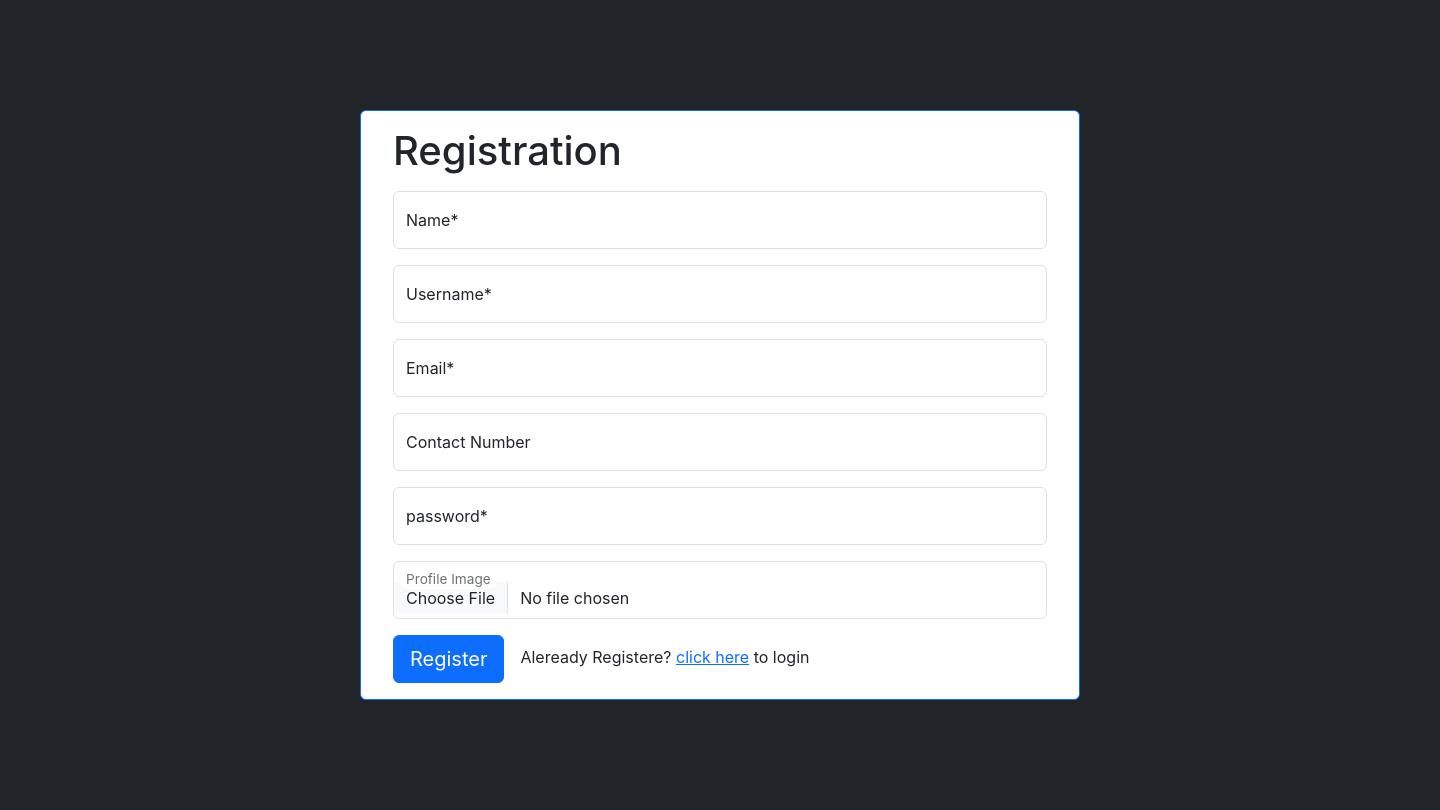
Scenario: signup component is rendered correctly › username input field throwing error after focussing and not entered any value and focus out
The width and height of the screenshot is (1440, 810).
Step 1. Click the field with placeholder "Enter username" → x=720, y=294, box [393,265,1047,323]
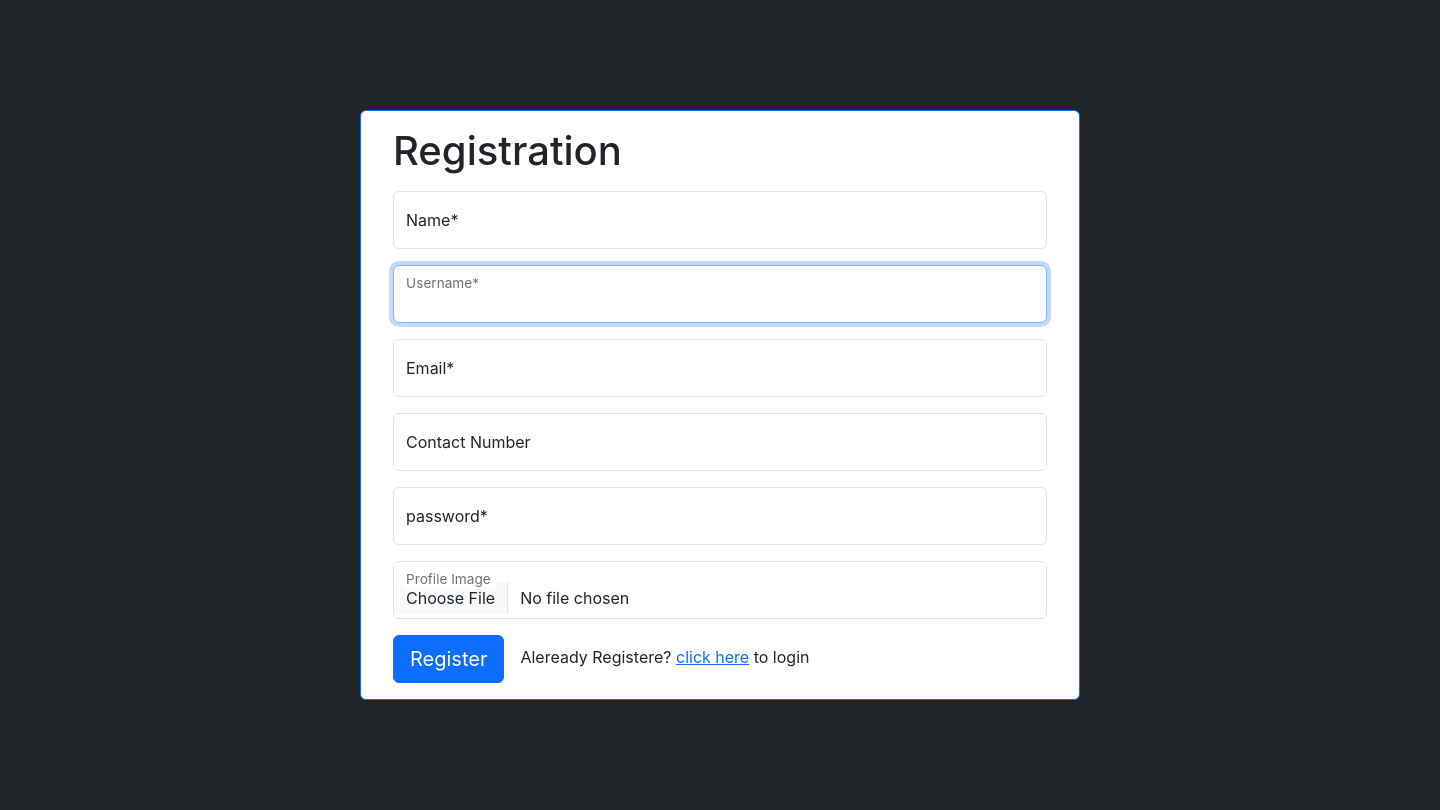
Step 2. Click the element that starts with "Registration" → x=720, y=405, box [0,0,1439,809]
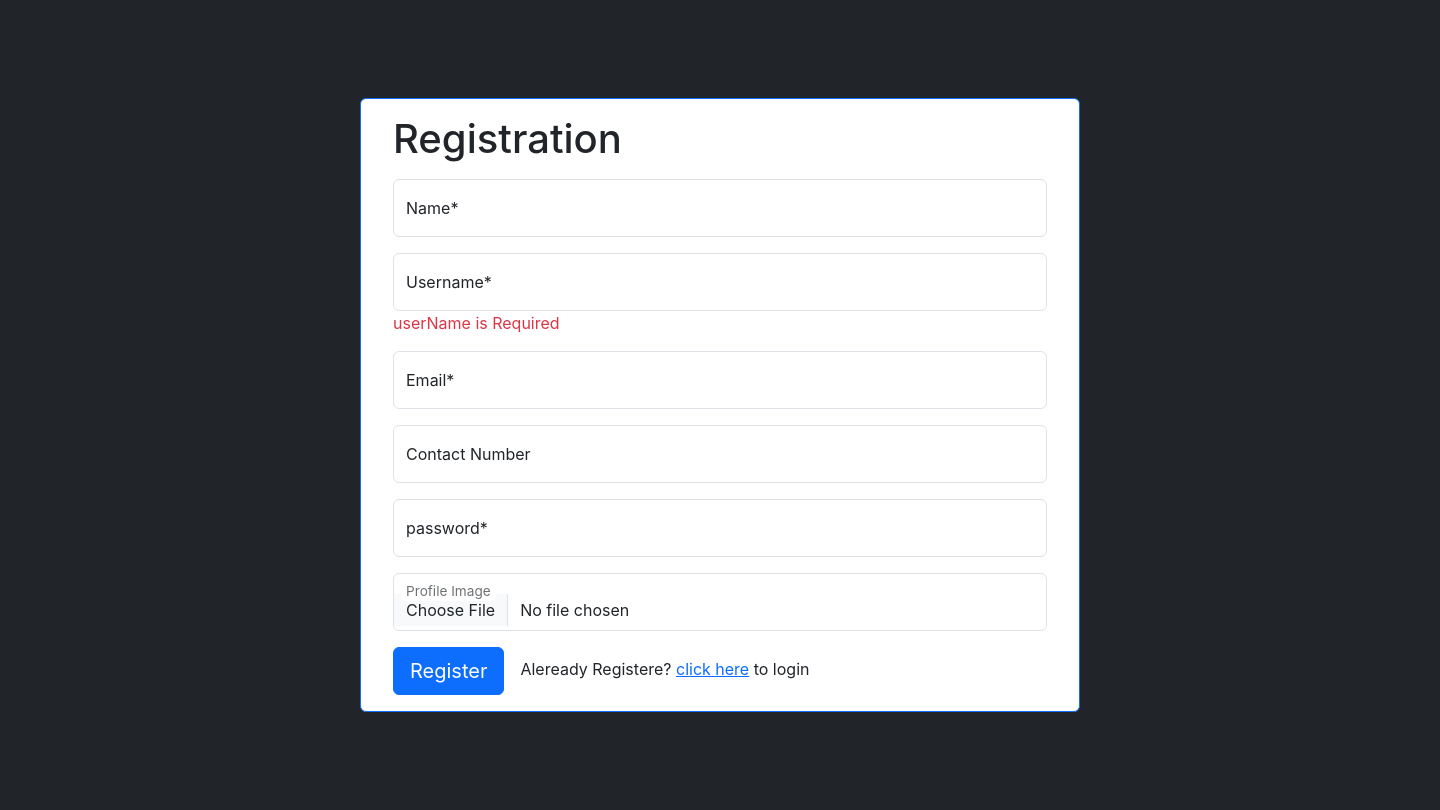
Result: the text "userName is Required" is shown at [393,313,560,333]
